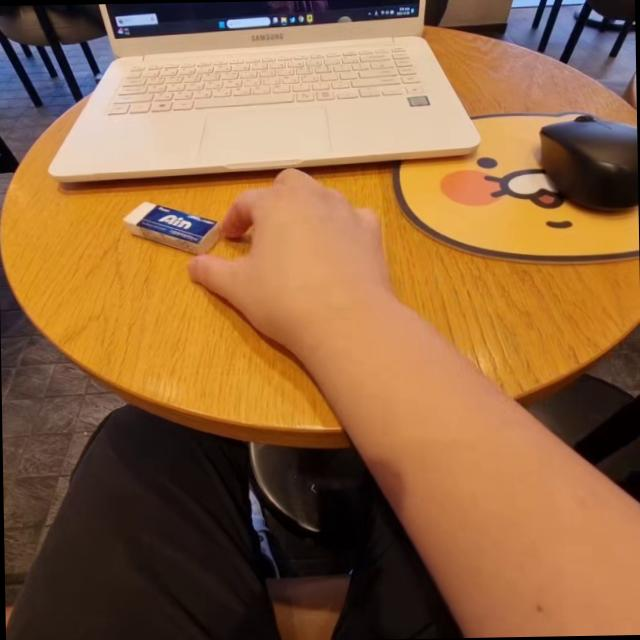eraser: (121, 190, 231, 262)
hand: (178, 170, 400, 360)
mouse: (532, 106, 638, 231)
